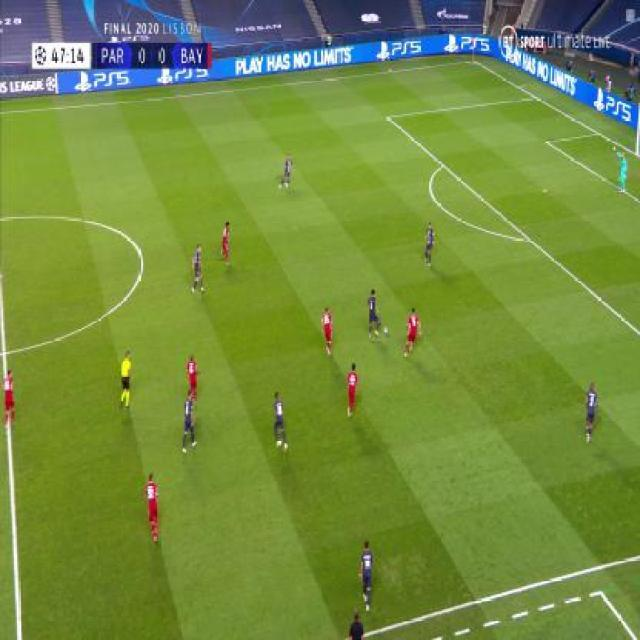ball: (384, 325, 389, 336)
player: (144, 472, 163, 546), (359, 539, 375, 612), (2, 367, 18, 430), (272, 392, 289, 451), (181, 391, 197, 453), (584, 382, 600, 444), (404, 305, 421, 358), (119, 349, 133, 411), (366, 288, 383, 337), (191, 243, 207, 294), (185, 355, 201, 403), (346, 363, 359, 417), (321, 305, 334, 358), (218, 220, 232, 266), (423, 221, 436, 267), (278, 153, 294, 190), (346, 608, 365, 639), (615, 149, 628, 194)
